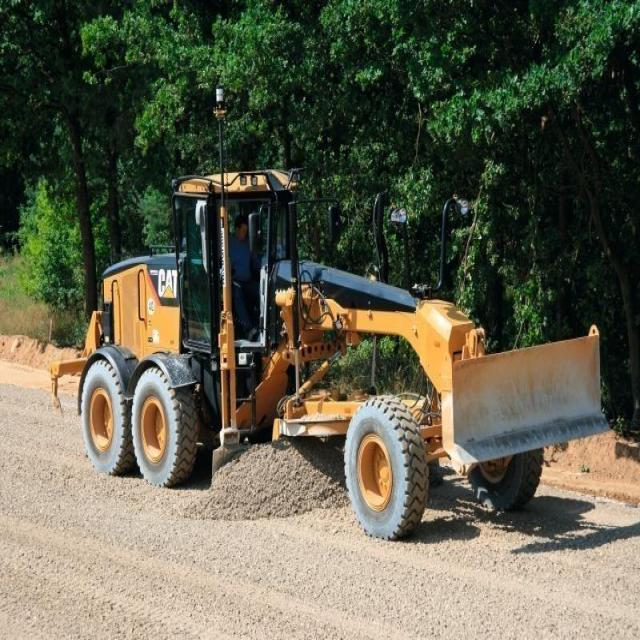Grader: (36, 140, 620, 542)
